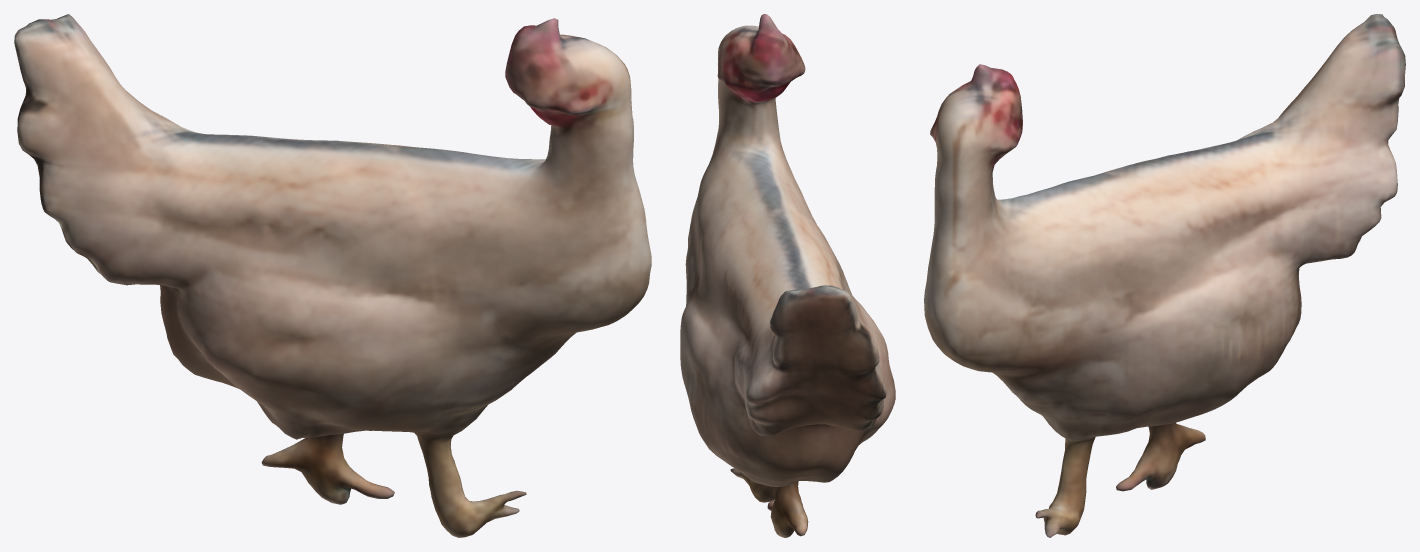
File: adulto.glb
3 renders of one model, left to right at view 1: azimuth 30°, elevation 25°; view 2: azimuth 150°, elevation 25°; view 3: azimuth 270°, elevation 25°, orthographic. The views are drawn at different scales.
Parts seen in each view (by area): view 1: mesh; view 2: mesh; view 3: mesh.
Part boxes in pixels (box(x1,y1,x2,y2)): mesh: box(14, 14, 651, 537); mesh: box(680, 14, 895, 537); mesh: box(924, 14, 1405, 537).
Size of the model in its own units: 1.2 by 1.49 by 1.33.
Materials: 1 (1 with a texture image).
